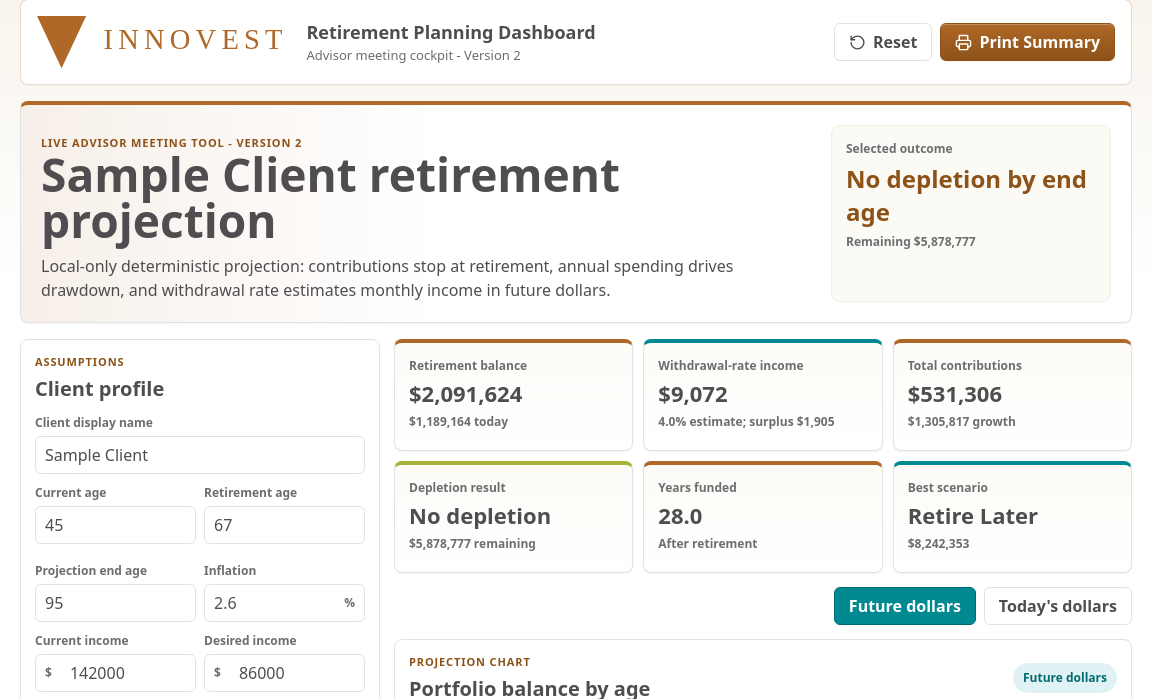
Scenario: Retirement dashboard app › updates mode and scenario labels from user interaction
The width and height of the screenshot is (1152, 699).
Click the button "Today's dollars": (1058, 606) x1=984 y1=587 x2=1132 y2=625
(page scrolled)
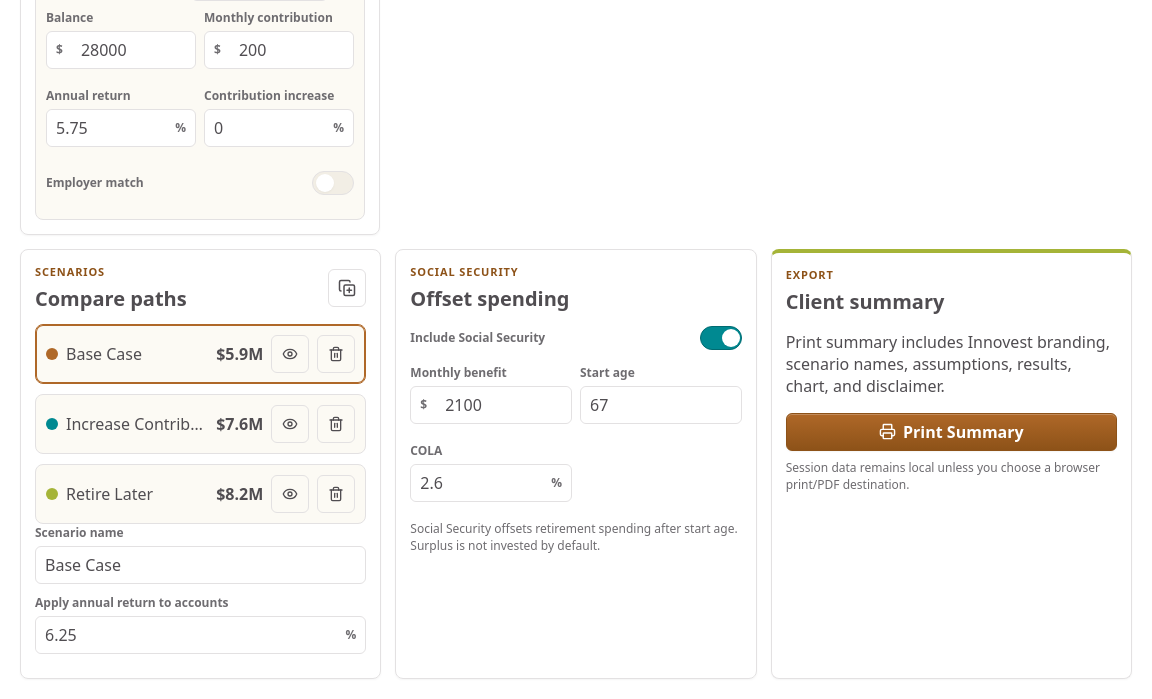
Replace the text in the field labelled "Scenario name" with "Client Conservative Case": (201, 565) x1=35 y1=546 x2=366 y2=584
(page scrolled)
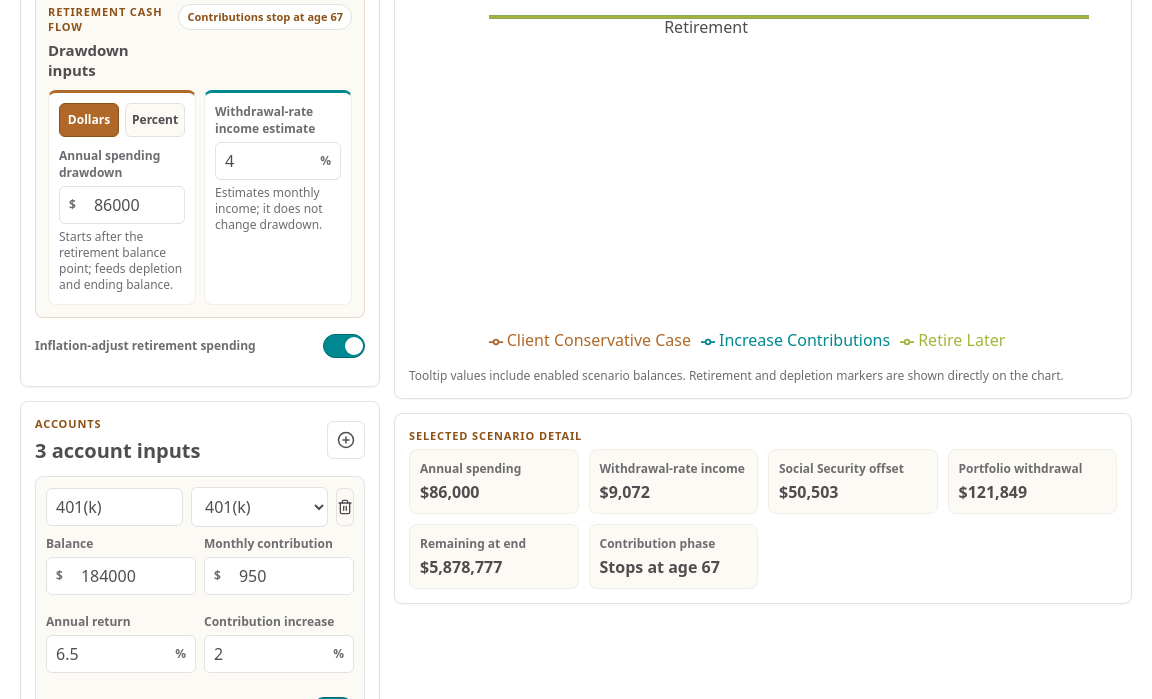
Check: the text "Client Conservative Case" is shown, box x1=507 y1=329 x2=691 y2=351
